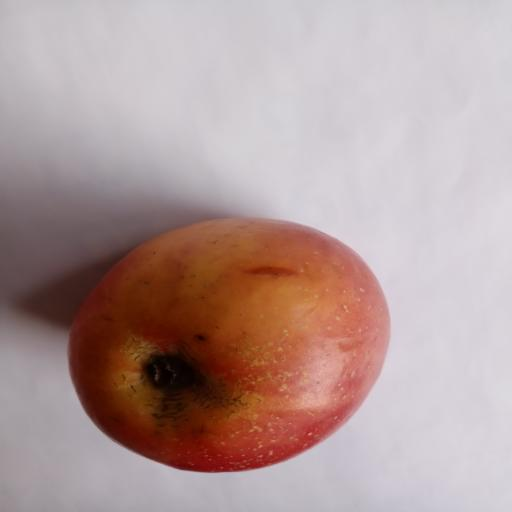apple-ripe: (59, 206, 410, 488)
